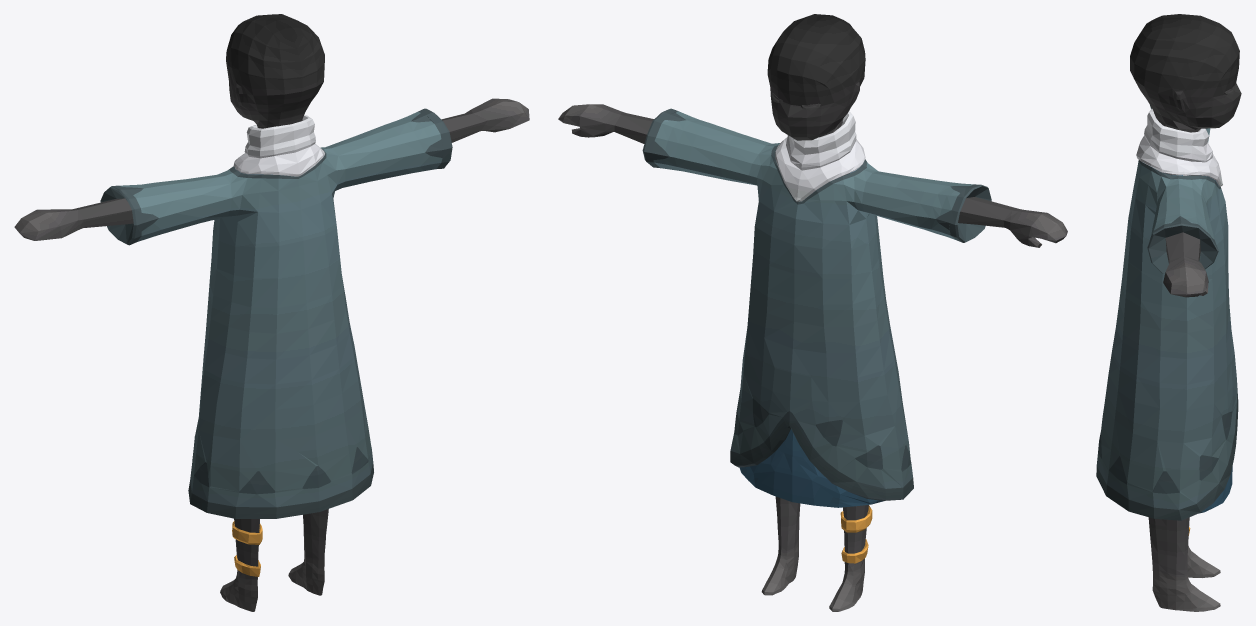
The model's file is CharSkyKid_Body_AP28BirdTunic.glb.
3 renders of one model, left to right at view 1: azimuth 30°, elevation 25°; view 2: azimuth 150°, elevation 25°; view 3: azimuth 270°, elevation 25°, orthographic.
Parts seen in each view (by area): view 1: CharSkyKid_Body_AP28BirdTunic; view 2: CharSkyKid_Body_AP28BirdTunic; view 3: CharSkyKid_Body_AP28BirdTunic.
Part boxes in pixels (x1=…): CharSkyKid_Body_AP28BirdTunic: x1=14, y1=14, x2=529, y2=611; CharSkyKid_Body_AP28BirdTunic: x1=558, y1=14, x2=1067, y2=611; CharSkyKid_Body_AP28BirdTunic: x1=1096, y1=14, x2=1241, y2=611.
Bounding box in the file's own units: 13.83 × 14.94 × 3.43.
Materials: 1 (1 with a texture image).
